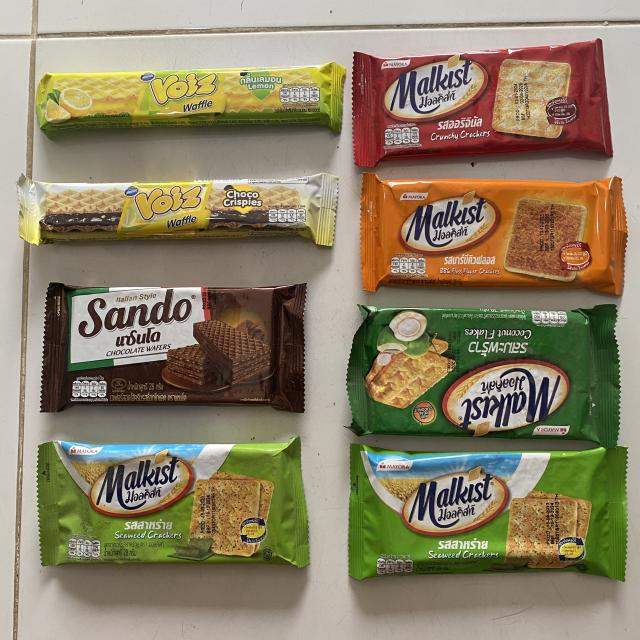plastik: (348, 304, 620, 448), (349, 444, 626, 580), (38, 438, 309, 568), (41, 282, 306, 412), (352, 39, 612, 166), (361, 172, 628, 295), (18, 172, 338, 246), (35, 62, 346, 136)
